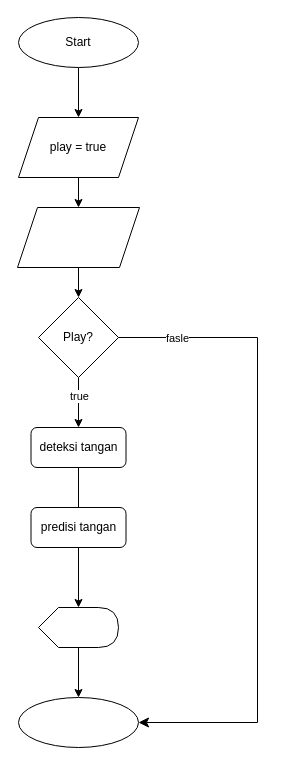
This 285x765 diagram has some shape labels left out. Each missing label, with the box of its shape:
inisialisasi model dan camera: (16, 206, 140, 268)
Selesai: (18, 696, 138, 748)
tampilkan prediksi: (38, 606, 118, 648)
